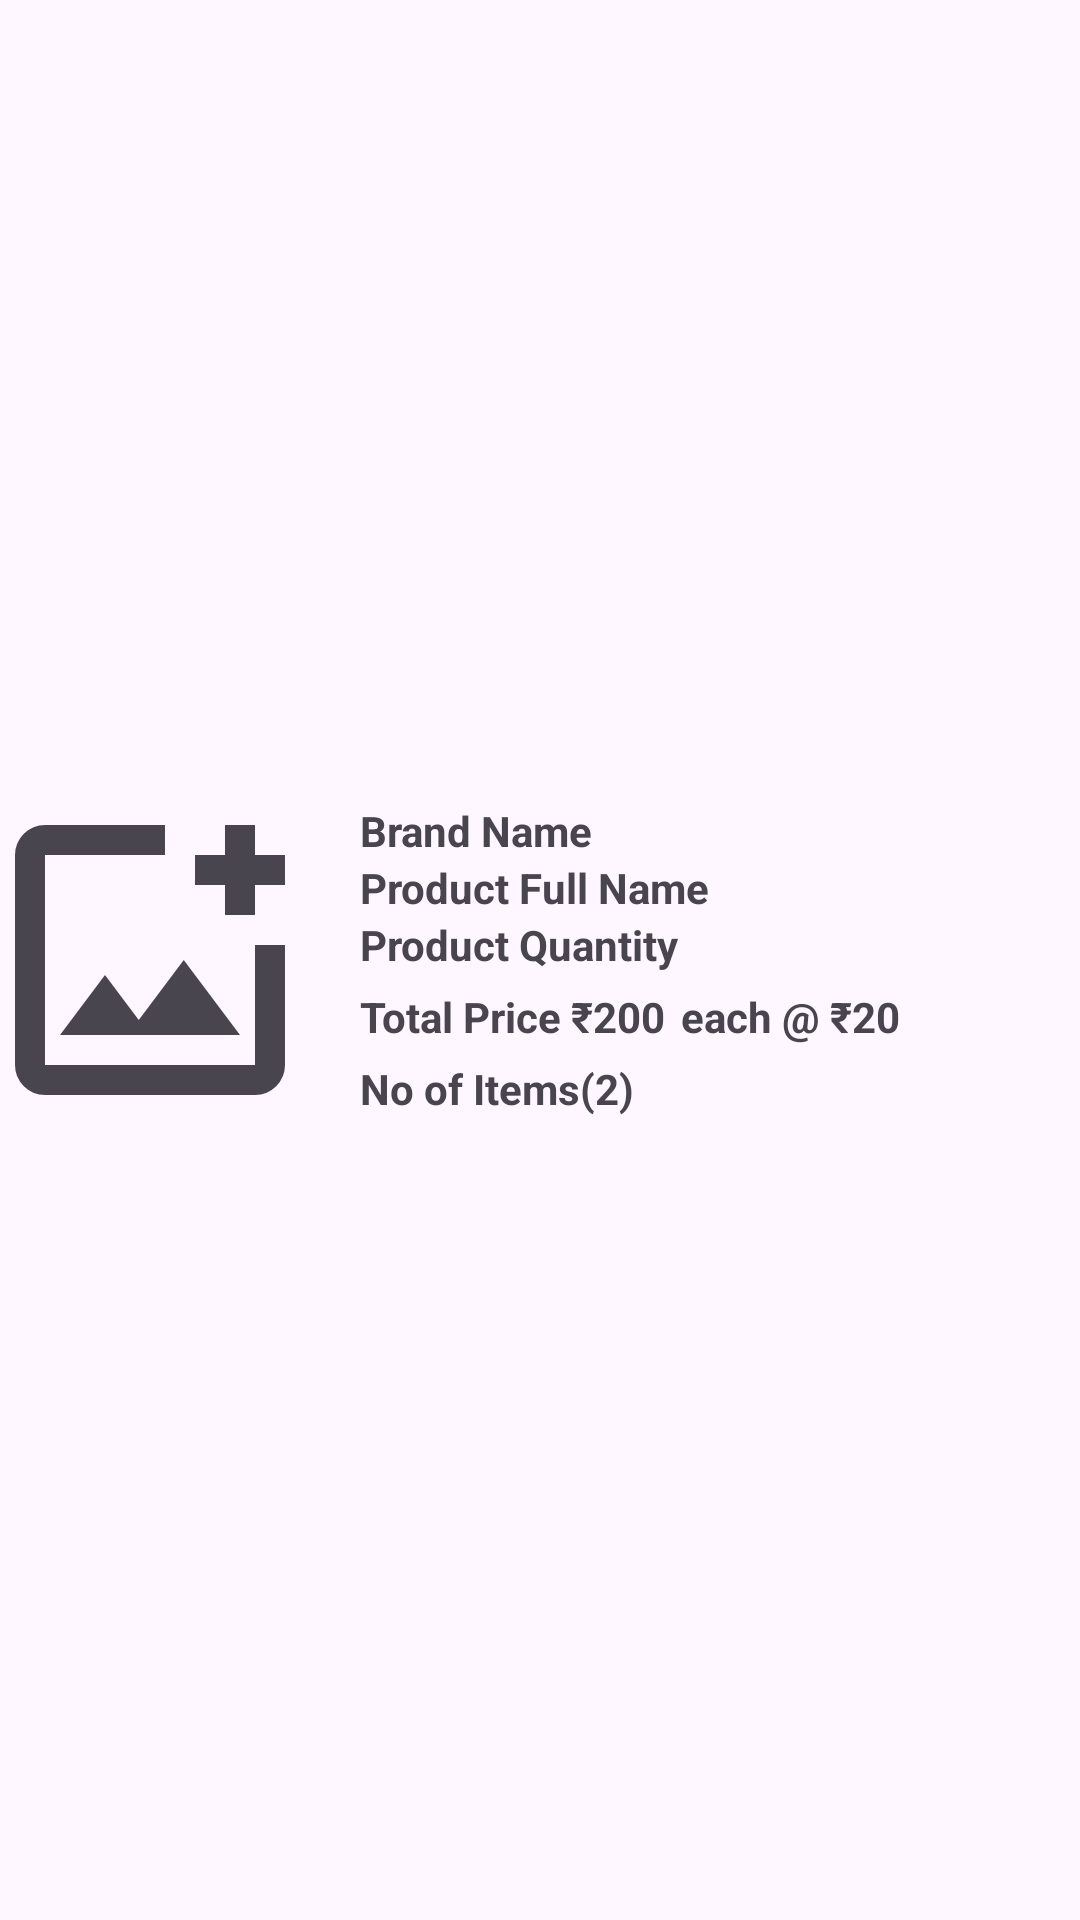

Icon bounding boxes for this 1080 x 1920 phone screenshot, format (x1, y1, x2, y2):
add photo alternate: (15, 825, 285, 1095)
